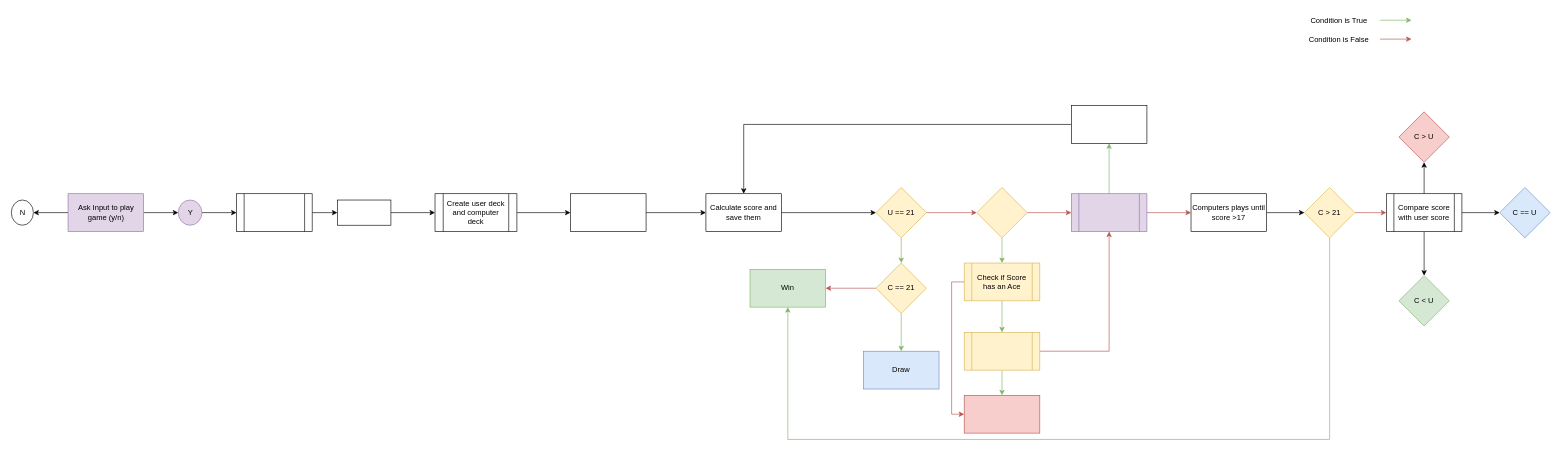
The diagram is 1561 pixels wide and 455 high, and some of its shapes have lost their labels. The centre of each missing label's shape, as x and y in pixels:
Ask if user wants Another card: (1109,212)
Clear Console: (274,212)
Deal another card: (1109,124)
Deal Card: (608,212)
Lose: (1002,414)
Print Logo: (364,212)
Replace ace with 1 and check score > 21: (1002,351)
U > 21: (1001,212)
